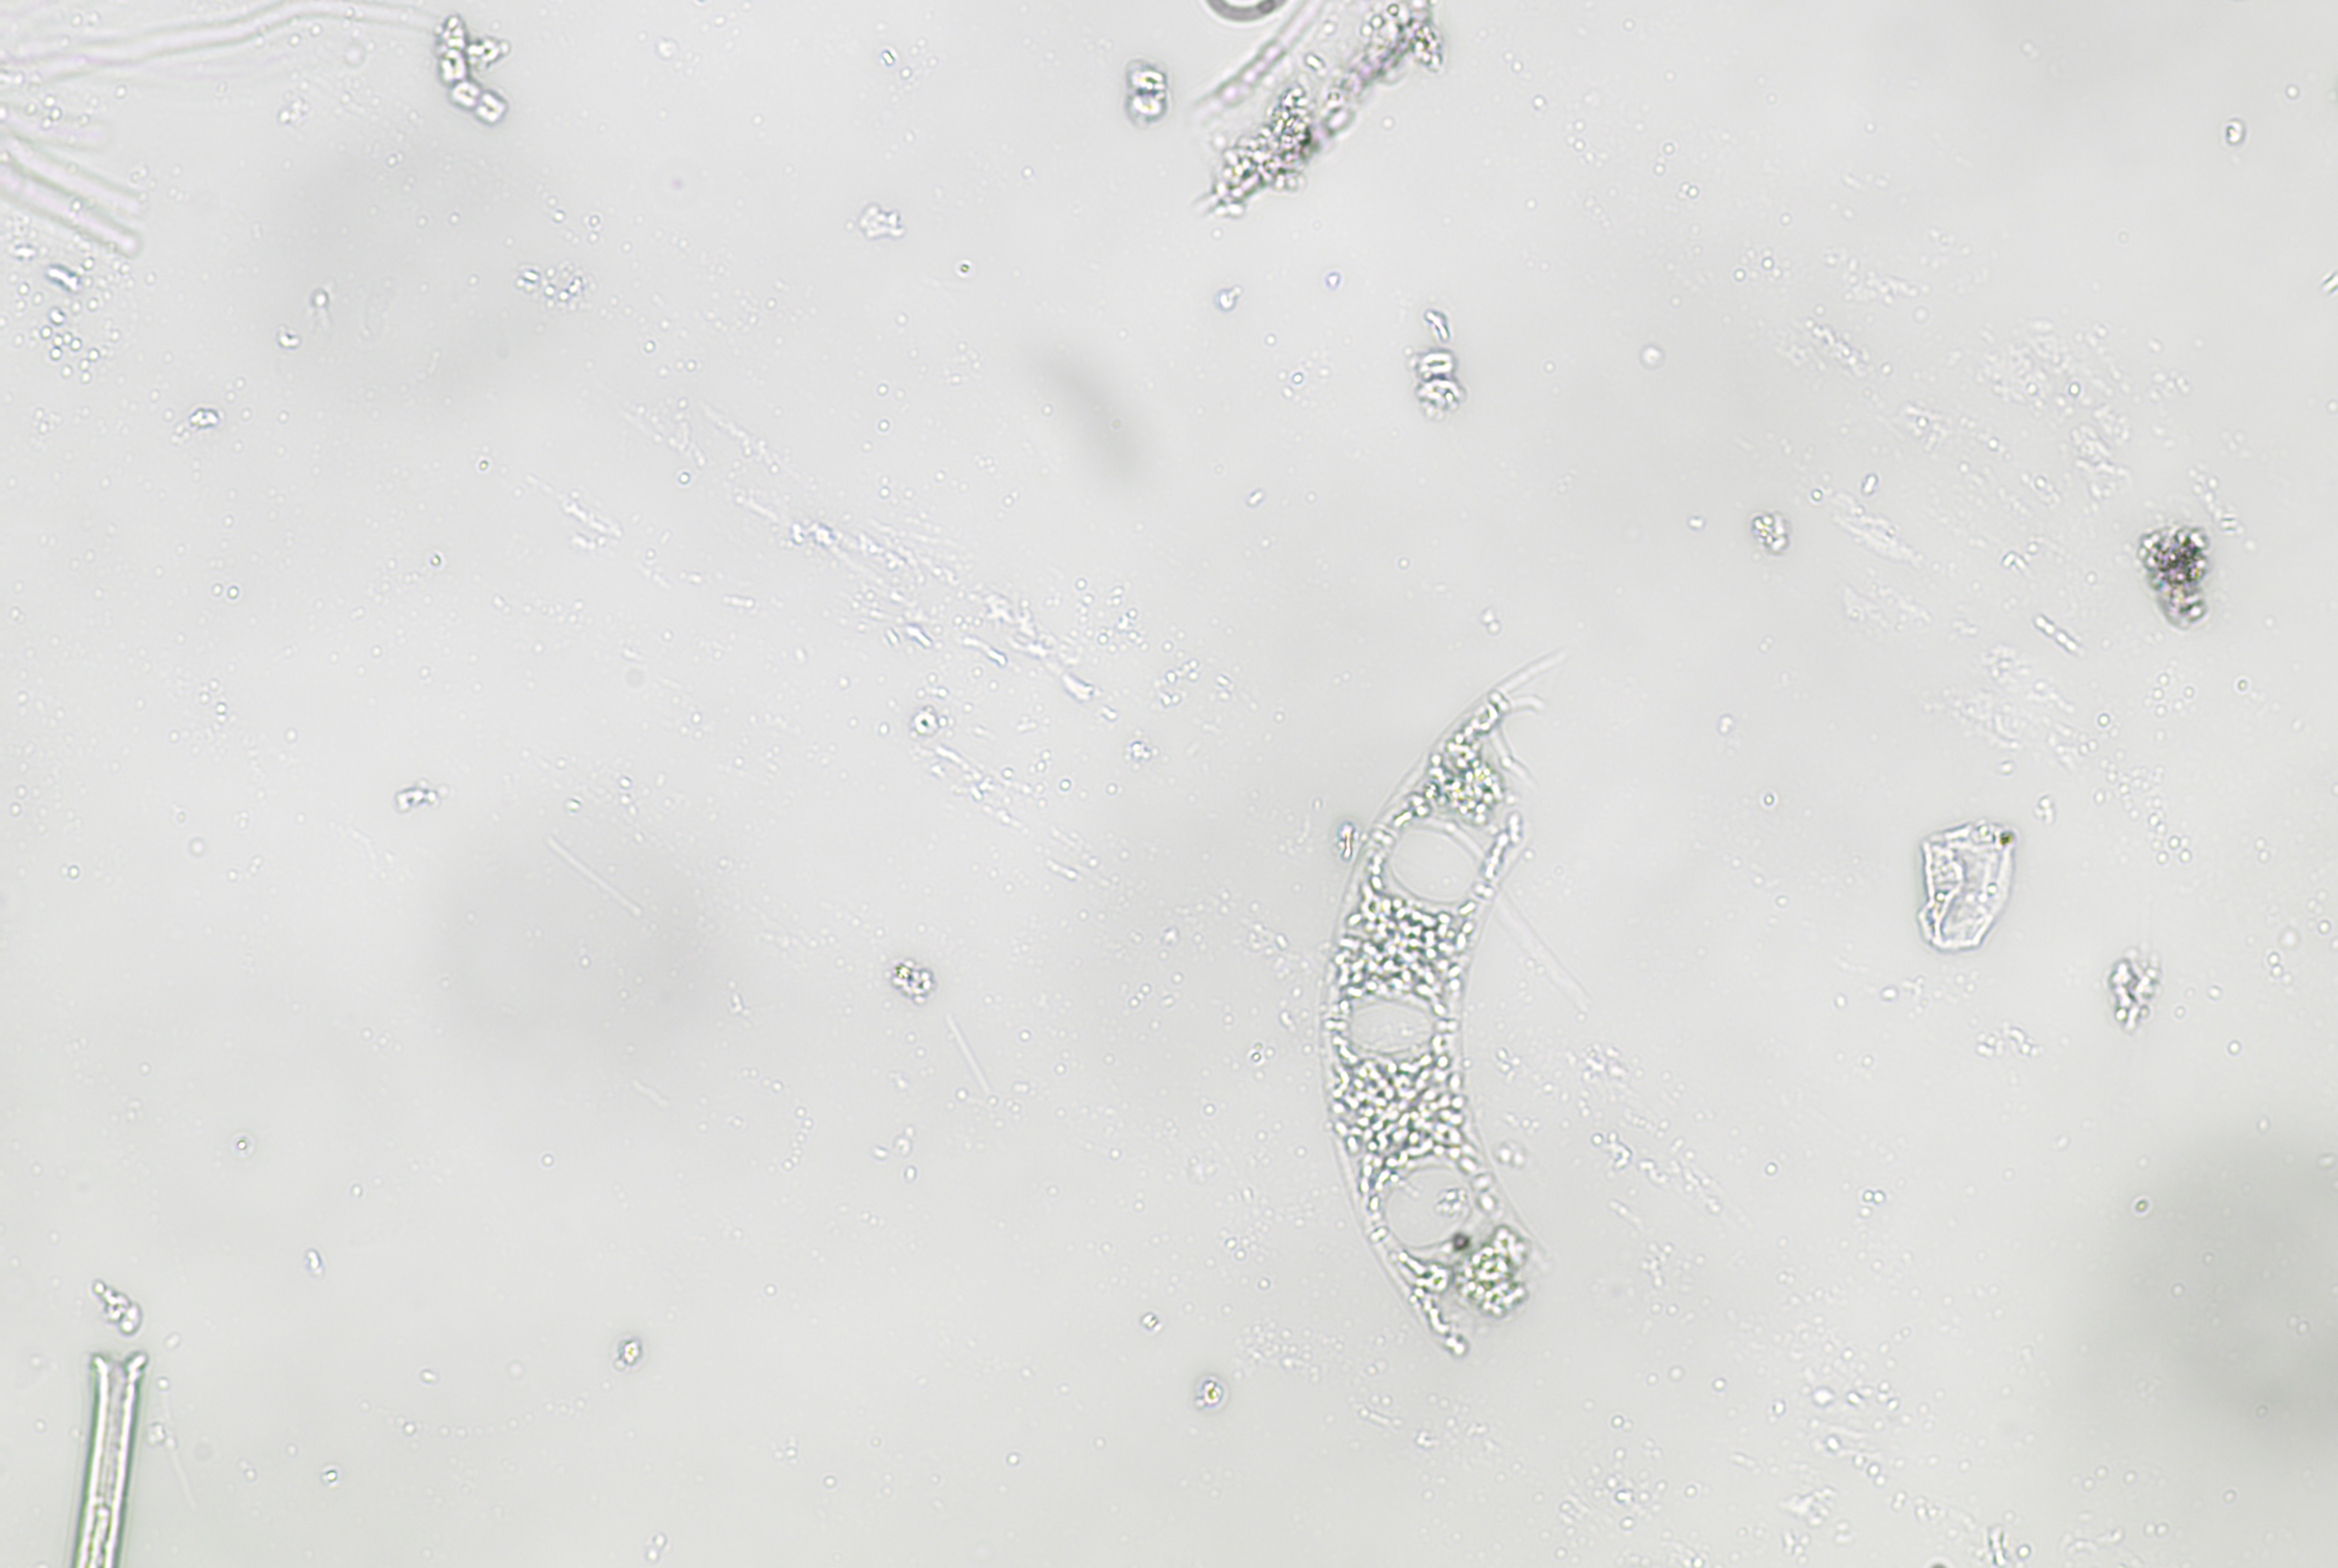eucampia: (1295, 625, 1614, 1368)
